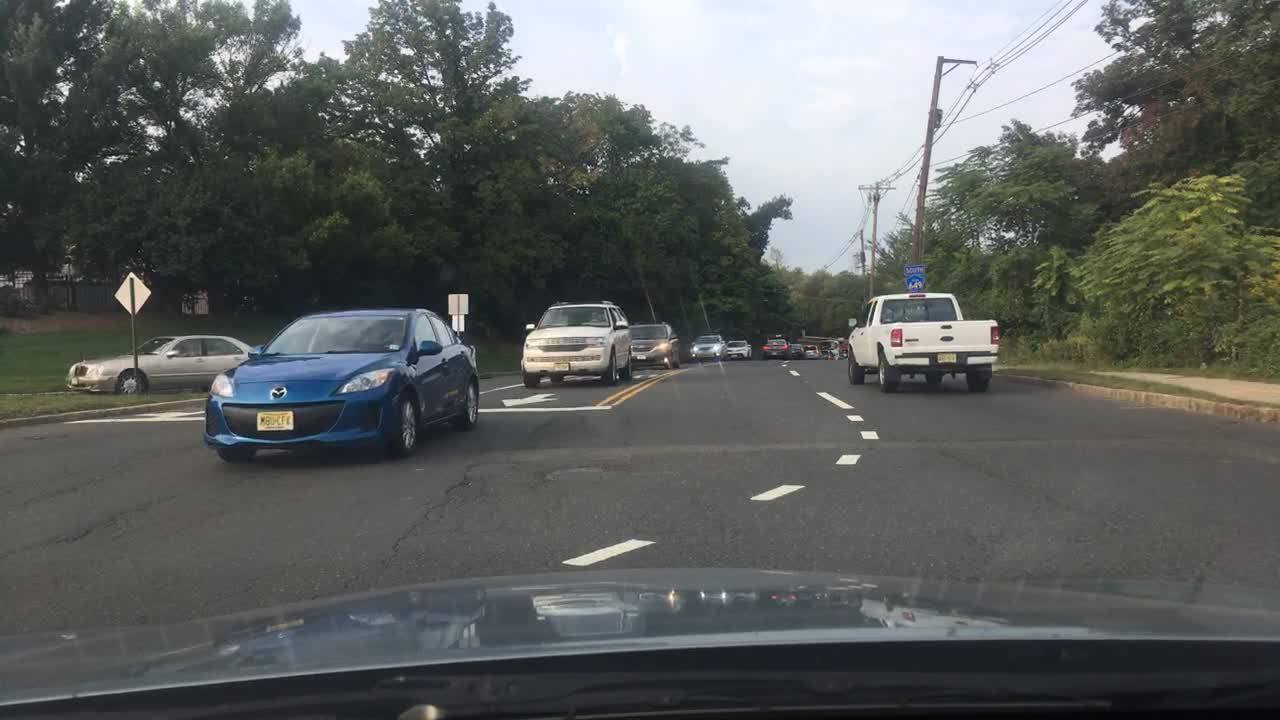car: (201, 306, 480, 467), (64, 334, 258, 395), (519, 299, 634, 388), (627, 322, 681, 367), (688, 334, 729, 364), (760, 337, 790, 360), (723, 337, 753, 360), (818, 337, 842, 358), (788, 341, 807, 360), (837, 337, 853, 358), (802, 343, 821, 360)
traffic sign: (112, 271, 154, 317), (904, 262, 927, 296), (446, 292, 469, 315), (452, 313, 466, 334), (843, 315, 859, 327)
truck: (846, 290, 1001, 393)
